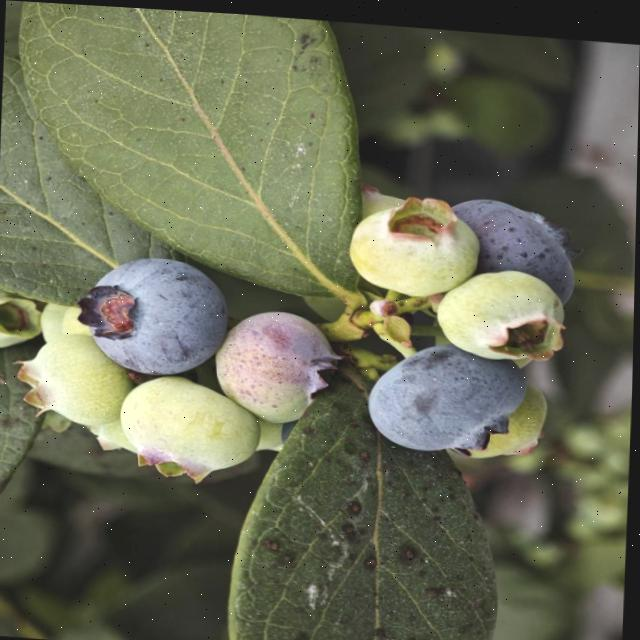RipeBlueBerry: (76, 248, 230, 378), (364, 335, 529, 453), (448, 190, 583, 295)
Semi-RipeBlueBerry: (212, 302, 334, 424)
UnripeBlueBerry: (118, 372, 268, 483), (347, 187, 487, 296), (432, 256, 567, 359), (23, 326, 137, 427)
